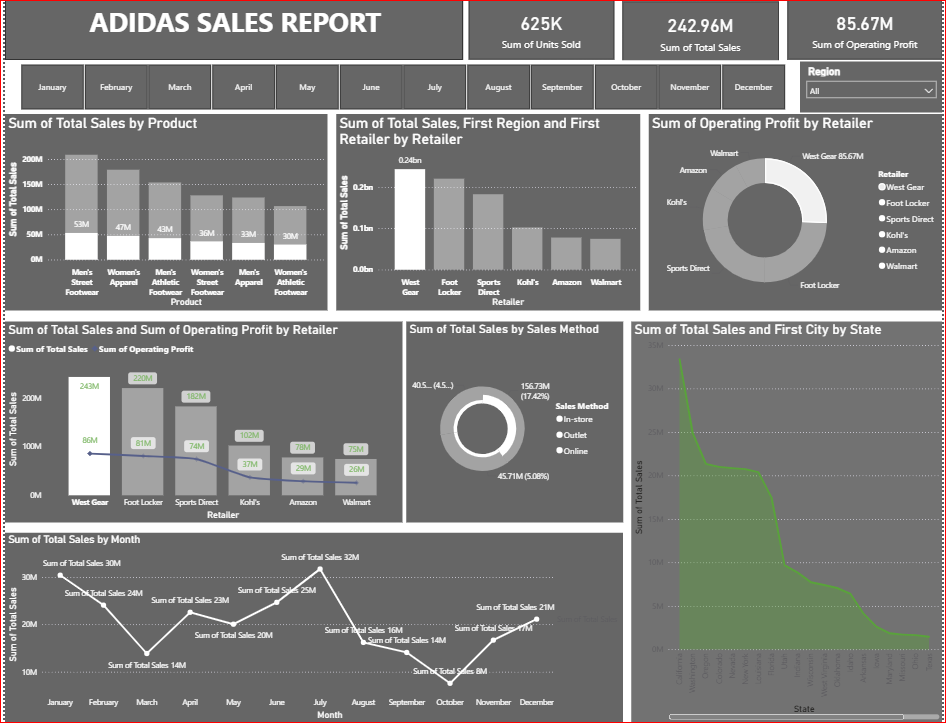

The dashboard page shown, as its layout file describes it:
{"tool":"powerbi","page":{"name":"Page 1","canvas":[1500,1157],"ordinal":0},"visuals":[{"type":"textbox","box":[0,0,732.9,97.3],"z":0},{"type":"card","fields":{"Values":["Sum(Table 1 (Data Sales Adidas).Total Sales)"]},"box":[988.7,3.9,250.1,96.9],"z":1000},{"type":"card","fields":{"Values":["Sum(Table 1 (Data Sales Adidas).Units Sold)"]},"box":[742.5,0,232.6,96.9],"z":2000},{"type":"card","fields":{"Values":["Sum(Table 1 (Data Sales Adidas).Operating Profit)"]},"box":[1252.4,0,248.2,96.9],"z":3000},{"type":"slicer","fields":{"Values":["Table 1 (Data Sales Adidas).Invoice Date.Variation.Date Hierarchy.Month"]},"box":[0,98.9,1271.8,85.3],"z":4000},{"type":"slicer","fields":{"Values":["Table 1 (Data Sales Adidas).Region"]},"box":[1271.8,100.8,228.8,81.4],"z":5000},{"type":"clusteredColumnChart","fields":{"Category":["Table 1 (Data Sales Adidas).Retailer"],"Y":["Sum(Table 1 (Data Sales Adidas).Total Sales)"]},"box":[529.3,184.2,486.6,314.1],"z":7000},{"type":"clusteredColumnChart","fields":{"Category":["Table 1 (Data Sales Adidas).Product"],"Y":["Sum(Table 1 (Data Sales Adidas).Total Sales)"]},"box":[0,184.2,515.7,314.1],"z":7500},{"type":"donutChart","fields":{"Category":["Table 1 (Data Sales Adidas).Retailer"],"Y":["Sum(Table 1 (Data Sales Adidas).Operating Profit)"]},"box":[1029.4,184.2,471.1,314.1],"z":8000},{"type":"lineStackedColumnComboChart","fields":{"Category":["Table 1 (Data Sales Adidas).Retailer"],"Y":["Sum(Table 1 (Data Sales Adidas).Total Sales)"],"Y2":["Sum(Table 1 (Data Sales Adidas).Operating Profit)"]},"box":[0,515.7,635.9,321.8],"z":9000},{"type":"donutChart","fields":{"Y":["Sum(Table 1 (Data Sales Adidas).Total Sales)"],"Category":["Table 1 (Data Sales Adidas).Sales Method"]},"box":[641.7,515.7,347,321.8],"z":10000},{"type":"lineChart","fields":{"Y":["Sum(Table 1 (Data Sales Adidas).Total Sales)"],"Category":["Table 1 (Data Sales Adidas).Invoice Date.Variation.Date Hierarchy.Month"]},"box":[0,853,988.7,304.4],"z":11000},{"type":"stackedAreaChart","fields":{"Category":["Table 1 (Data Sales Adidas).State"],"Y":["Sum(Table 1 (Data Sales Adidas).Total Sales)"]},"box":[1002.3,515.7,498.2,641.7],"z":12000}]}

Visuals, with their boxes in screenshot pixels (x1, y1, x2, y2), scaled from the page's 1500x1157 canvas onto the 946x723 screenshot:
textbox: bbox(0, 0, 462, 61)
card - Sum(Table 1 (Data Sales Adidas).Total Sales): bbox(624, 2, 781, 63)
card - Sum(Table 1 (Data Sales Adidas).Units Sold): bbox(468, 0, 615, 61)
card - Sum(Table 1 (Data Sales Adidas).Operating Profit): bbox(790, 0, 945, 61)
slicer - Table 1 (Data Sales Adidas).Invoice Date.Variation.Date Hierarchy.Month: bbox(0, 62, 802, 115)
slicer - Table 1 (Data Sales Adidas).Region: bbox(802, 63, 945, 114)
clusteredColumnChart - Table 1 (Data Sales Adidas).Retailer x Sum(Table 1 (Data Sales Adidas).Total Sales): bbox(334, 115, 641, 311)
clusteredColumnChart - Table 1 (Data Sales Adidas).Product x Sum(Table 1 (Data Sales Adidas).Total Sales): bbox(0, 115, 325, 311)
donutChart - Table 1 (Data Sales Adidas).Retailer x Sum(Table 1 (Data Sales Adidas).Operating Profit): bbox(649, 115, 945, 311)
lineStackedColumnComboChart - Table 1 (Data Sales Adidas).Retailer x Sum(Table 1 (Data Sales Adidas).Total Sales): bbox(0, 322, 401, 523)
donutChart - Sum(Table 1 (Data Sales Adidas).Total Sales) x Table 1 (Data Sales Adidas).Sales Method: bbox(405, 322, 624, 523)
lineChart - Sum(Table 1 (Data Sales Adidas).Total Sales) x Table 1 (Data Sales Adidas).Invoice Date.Variation.Date Hierarchy.Month: bbox(0, 533, 624, 722)
stackedAreaChart - Table 1 (Data Sales Adidas).State x Sum(Table 1 (Data Sales Adidas).Total Sales): bbox(632, 322, 945, 722)
